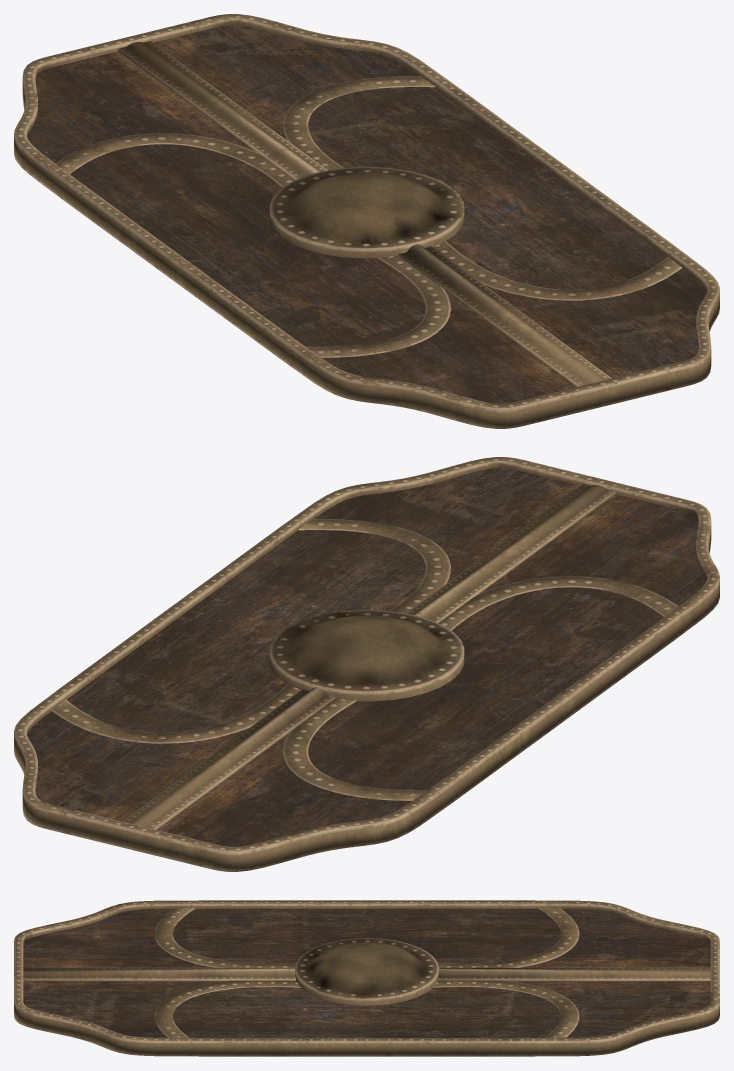
The model's file is dunland_wulf_shield_medium_c.fbx.
3 views of the same model, one above another, from view 1: azimuth 30°, elevation 25°; view 2: azimuth 150°, elevation 25°; view 3: azimuth 270°, elevation 25° (orthographic). The views are drawn at different scales.
Parts seen in each view (by area): view 1: dunland_wulf_shield_medium_c; view 2: dunland_wulf_shield_medium_c; view 3: dunland_wulf_shield_medium_c.
Part boxes in pixels (box(x1,y1,x2,y2)): dunland_wulf_shield_medium_c: box(14, 14, 719, 428); dunland_wulf_shield_medium_c: box(14, 457, 719, 871); dunland_wulf_shield_medium_c: box(14, 900, 719, 1056).
Bounding box in the file's own units: 0.72 × 1.52 × 0.0818.
1 material, 1 textured.
